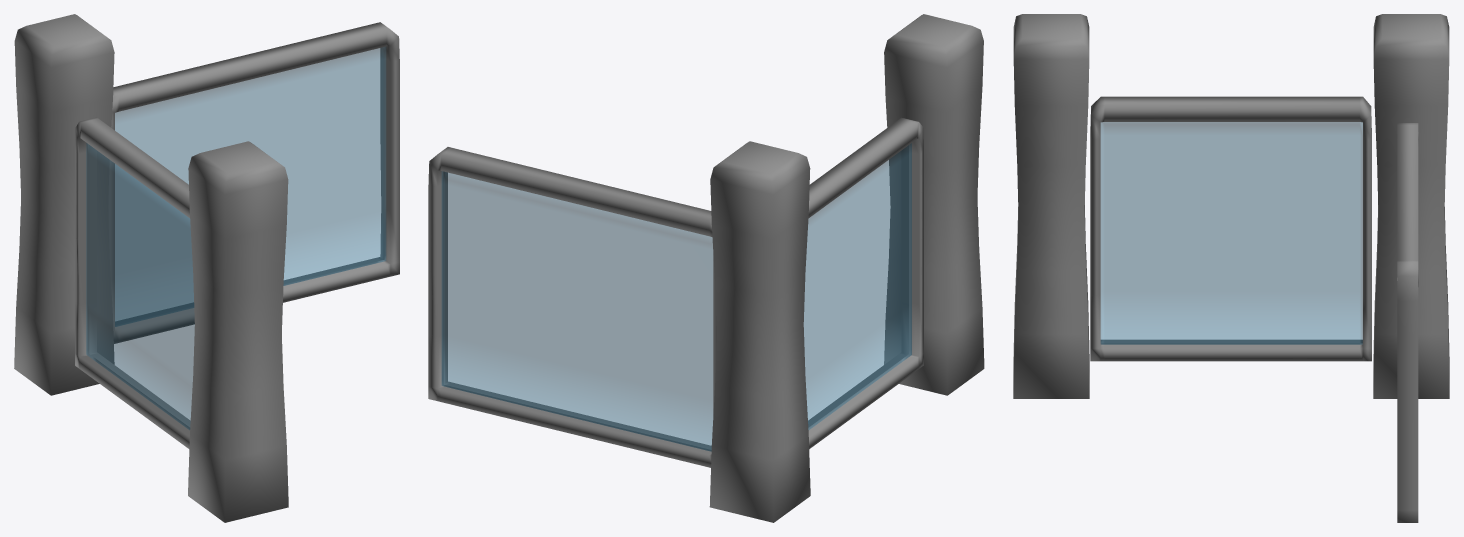
Rendered from GlassHalfWall_LeftCorner_Border.glb.
3 views of the same model, side by side, from view 1: azimuth 30°, elevation 25°; view 2: azimuth 150°, elevation 25°; view 3: azimuth 270°, elevation 25° (orthographic). The views are drawn at different scales.
Parts seen in each view (by area): view 1: 6-StraightGlassBorder.010, 3-PostNARROWER.011, 6-StraightGlassBorder.011, 3-PostNARROWER.009; view 2: 6-StraightGlassBorder.010, 3-PostNARROWER.009, 6-StraightGlassBorder.011, 3-PostNARROWER.011; view 3: 6-StraightGlassBorder.011, 3-PostNARROWER.011, 3-PostNARROWER.009, 6-StraightGlassBorder.010.
Part boxes in pixels (x1,y1,x2,y2): 6-StraightGlassBorder.010: (108,22,399,343); 3-PostNARROWER.011: (188,141,288,522); 6-StraightGlassBorder.011: (75,117,194,448); 3-PostNARROWER.009: (14,14,114,395); 6-StraightGlassBorder.010: (428,147,716,467); 3-PostNARROWER.009: (709,141,810,522); 6-StraightGlassBorder.011: (803,117,923,448); 3-PostNARROWER.011: (884,14,984,395); 6-StraightGlassBorder.011: (1090,96,1371,361); 3-PostNARROWER.011: (1013,14,1089,398); 3-PostNARROWER.009: (1373,14,1449,398); 6-StraightGlassBorder.010: (1397,123,1418,522).
Size of the model in its own units: 1.09 by 0.9929 by 1.1.
Materials: 3 (3 with a texture image).
